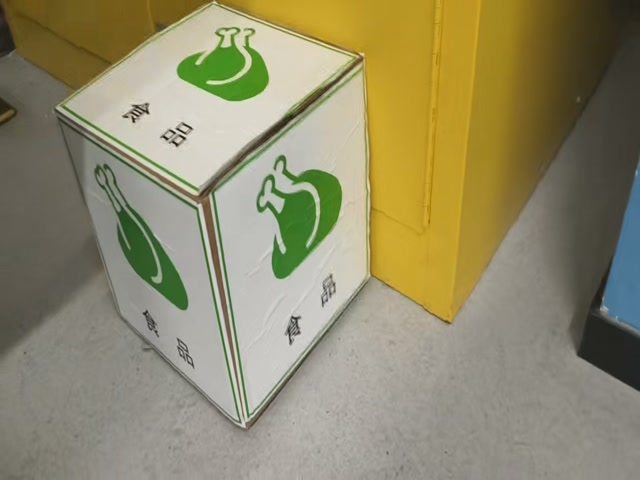Cube_food: (57, 4, 362, 207)
